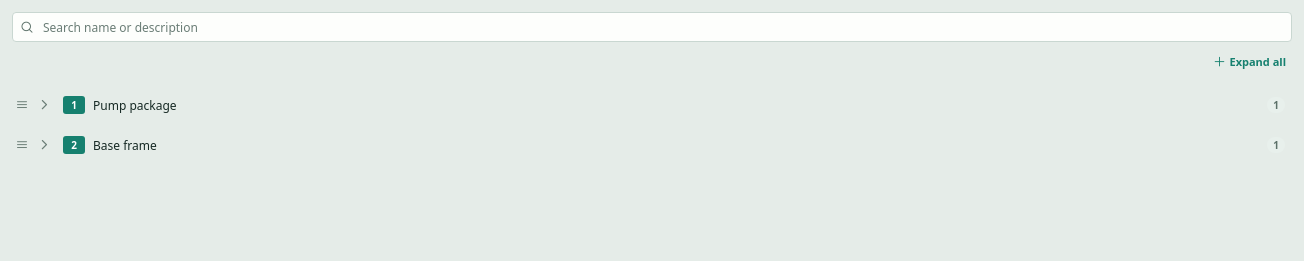
QuotationNavigator › renders drag handles for visible nested priced rows
Click the button with class "navigator-toolbar-action": {"x": 1250, "y": 62} [1208, 50, 1292, 73]
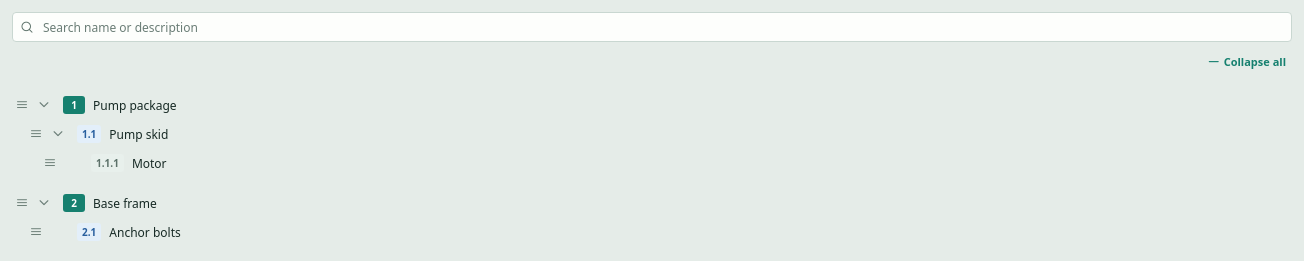
Check: the number of buttons with class "nav-drag-handle" is 5, box [12, 93, 32, 117]; [26, 122, 46, 146]; [40, 151, 60, 175]; [12, 191, 32, 215]; [26, 220, 46, 244]
